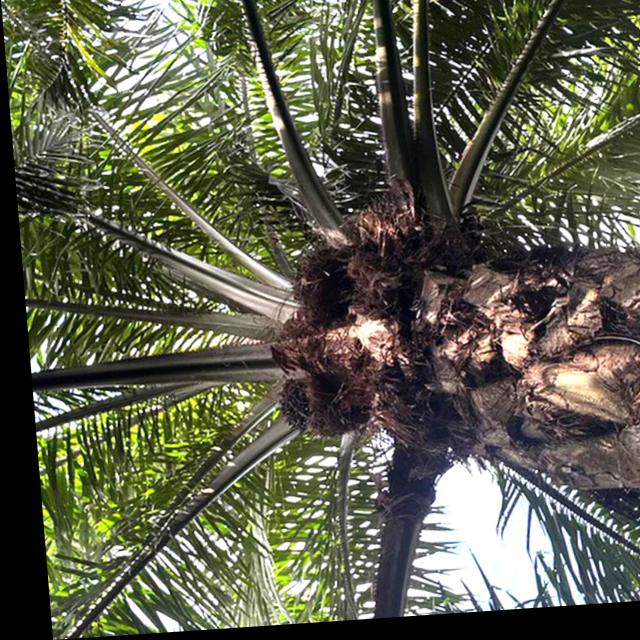unripe: (263, 364, 366, 450)
